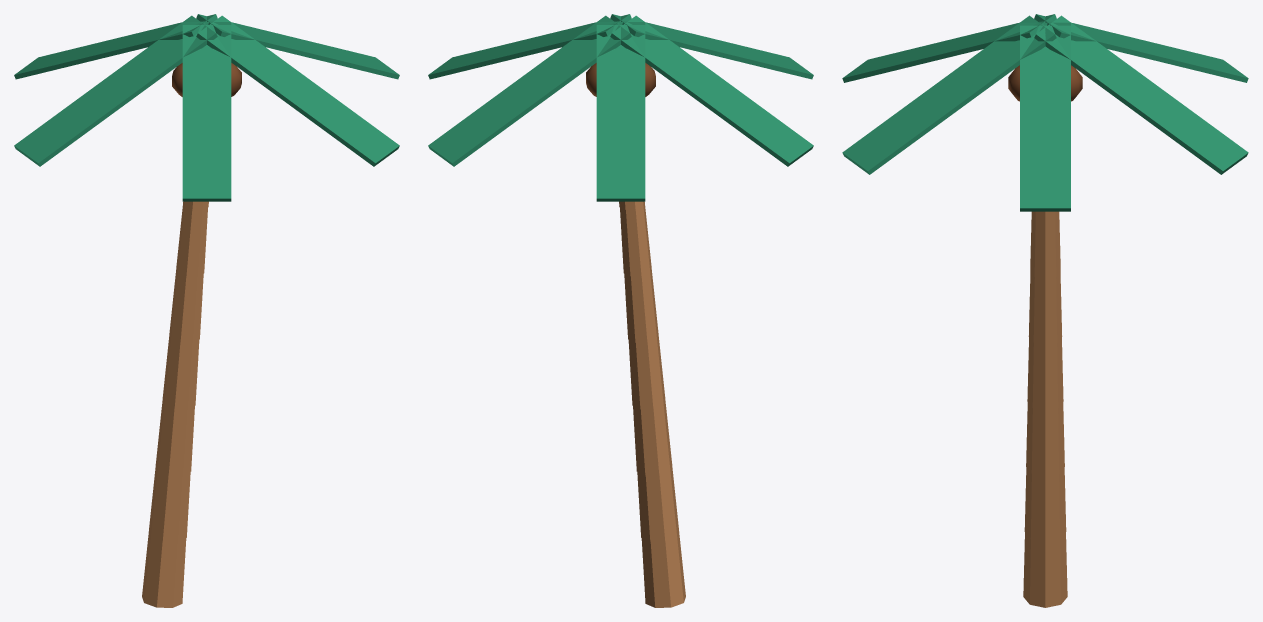
Rendered from coconut_tree.glb.
The picture shows the model from 3 angles, left to right: view 1: azimuth 30°, elevation 25°; view 2: azimuth 150°, elevation 25°; view 3: azimuth 270°, elevation 25°; orthographic projection. The views are drawn at different scales.
Visible parts, largest first — view 1: coconut_tree; view 2: coconut_tree; view 3: coconut_tree.
Boxes of the visible parts, <box> form: coconut_tree: <box>14,14,399,607</box>; coconut_tree: <box>428,14,813,607</box>; coconut_tree: <box>842,14,1248,607</box>.
Size of the model in its own units: 2.58 by 3.87 by 2.39.
